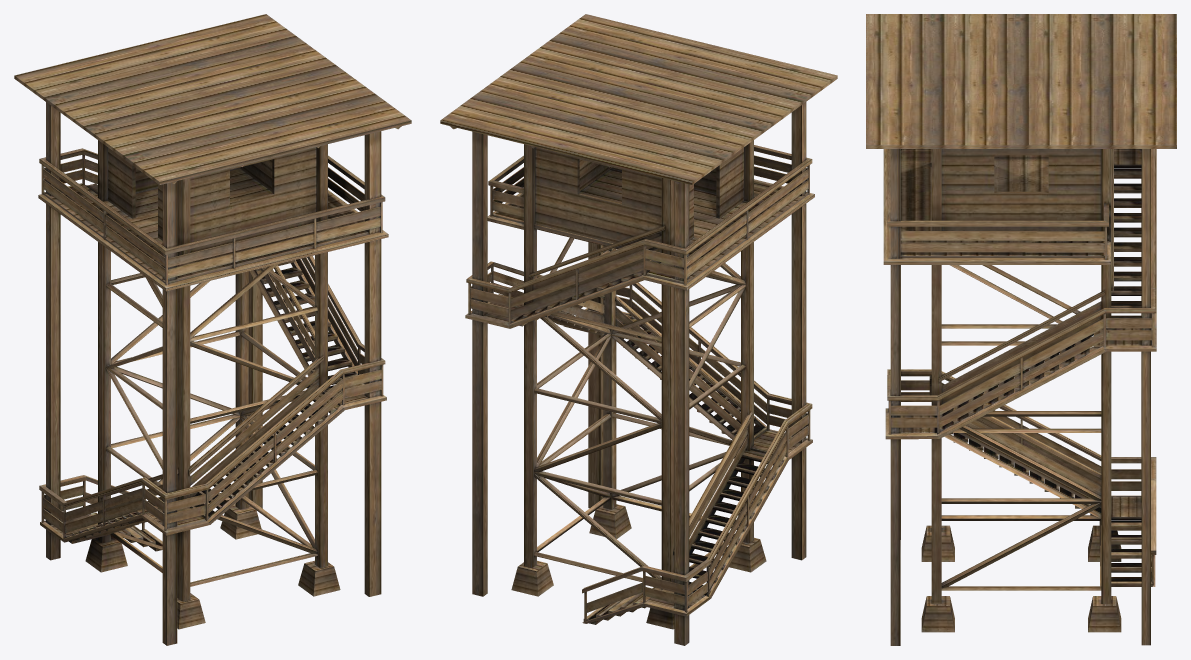
The model's file is watchtower.glb.
3 renders of one model, left to right at view 1: azimuth 30°, elevation 25°; view 2: azimuth 150°, elevation 25°; view 3: azimuth 270°, elevation 25°, orthographic. The views are drawn at different scales.
Parts seen in each view (by area): view 1: watchtowerHigh; view 2: watchtowerHigh; view 3: watchtowerHigh.
Part boxes in pixels (<box>): watchtowerHigh: <box>14,14,411,645</box>; watchtowerHigh: <box>440,14,837,645</box>; watchtowerHigh: <box>866,14,1176,645</box>.
Size of the model in its own units: 7.2 by 13.04 by 7.2.
1 material, 1 textured.
